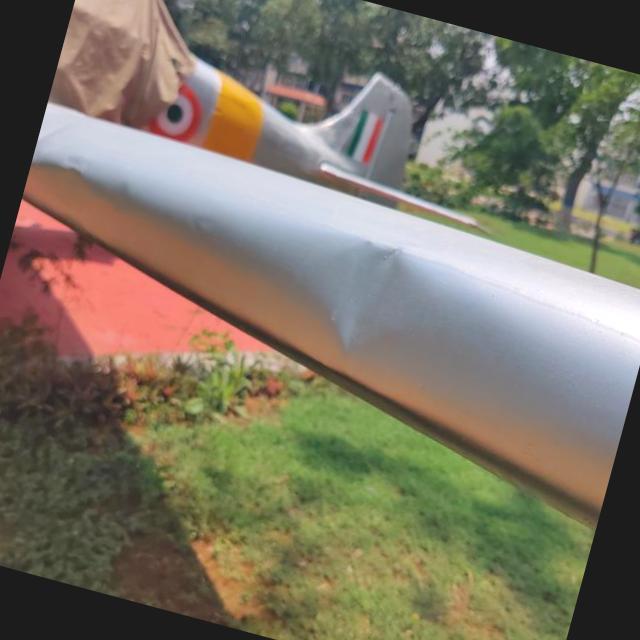dent: (290, 214, 444, 382)
